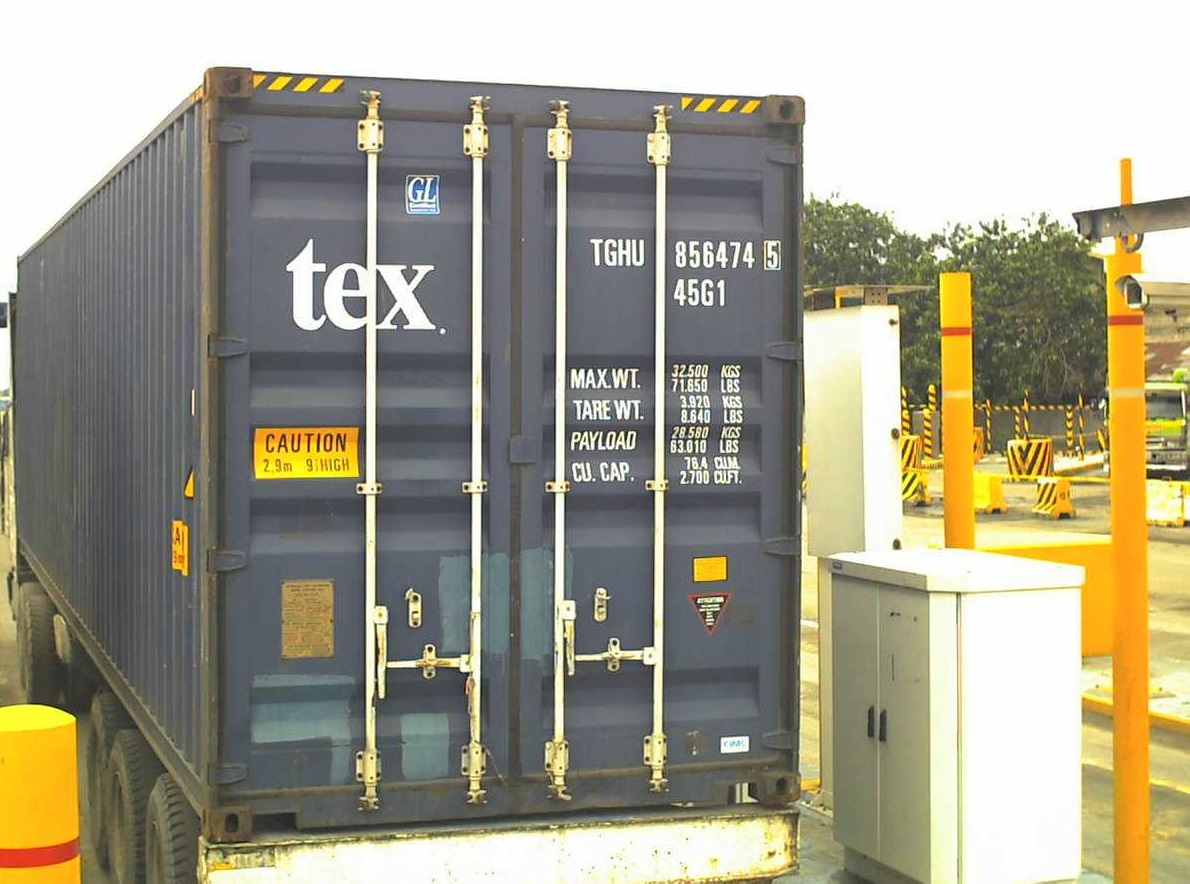container_door: (205, 67, 800, 820)
